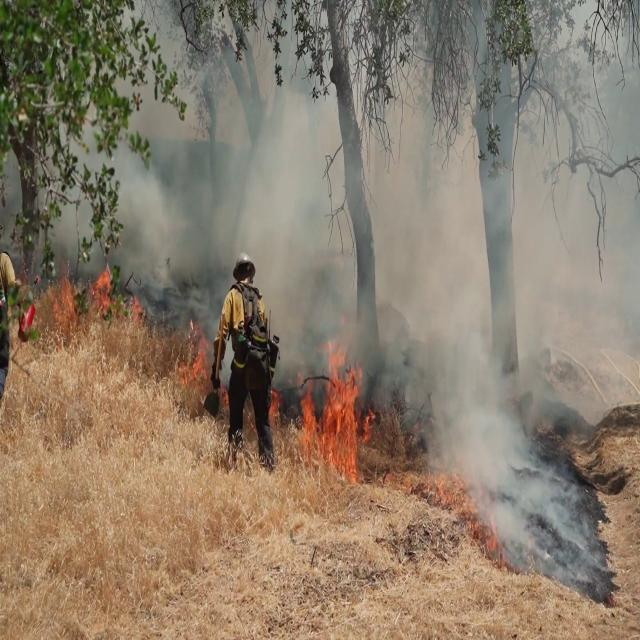Fire: (292, 338, 377, 476), (26, 264, 128, 330)
Smoke: (4, 37, 624, 333), (385, 51, 636, 576)
